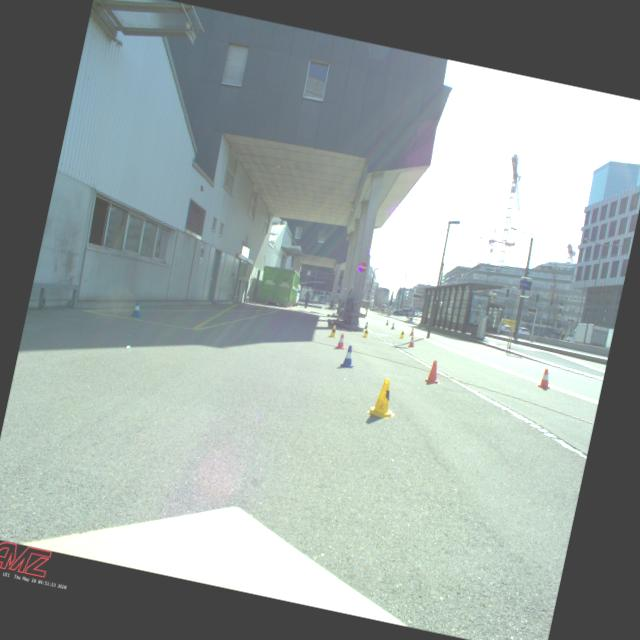blue_cone: (340, 344, 358, 368), (130, 300, 144, 318), (390, 322, 396, 330), (384, 320, 390, 326), (364, 321, 368, 329)
orange_cone: (424, 358, 442, 384), (537, 367, 553, 389), (335, 332, 347, 350), (407, 336, 416, 348), (409, 327, 415, 336)
yellow_cone: (366, 376, 402, 420), (329, 324, 338, 338), (362, 326, 370, 338), (398, 328, 406, 338)
